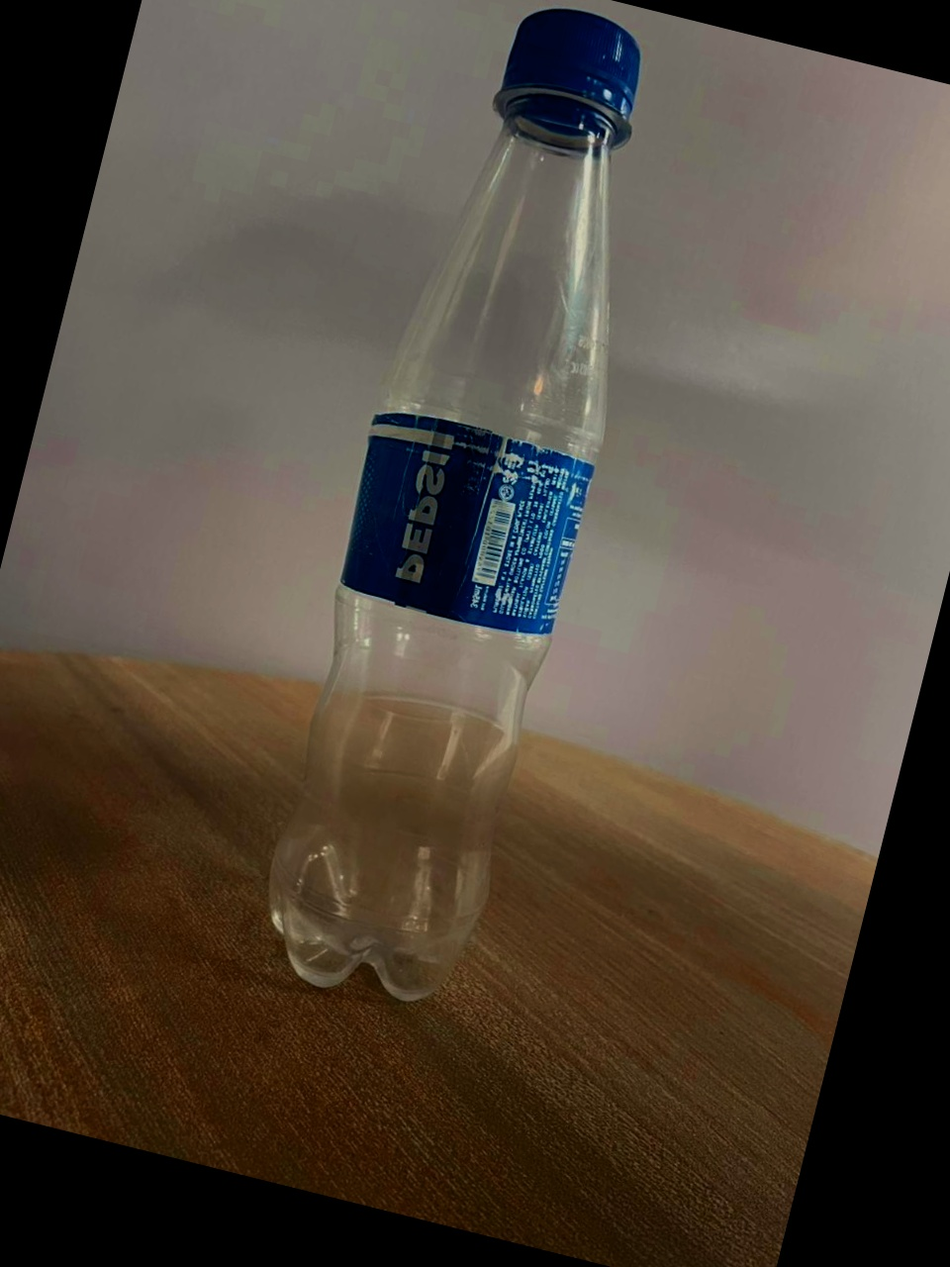Pepsi Bottle: (210, 0, 719, 1031), (217, 0, 716, 1033)
